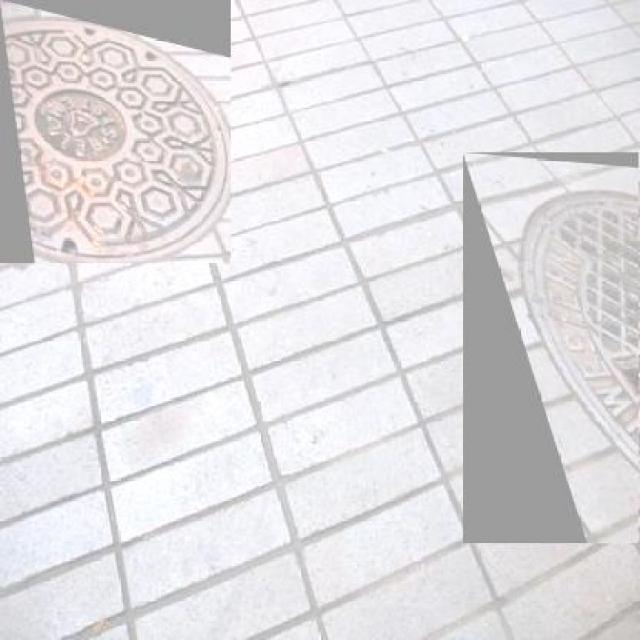Manhole: (463, 152, 639, 543), (0, 0, 231, 263)
